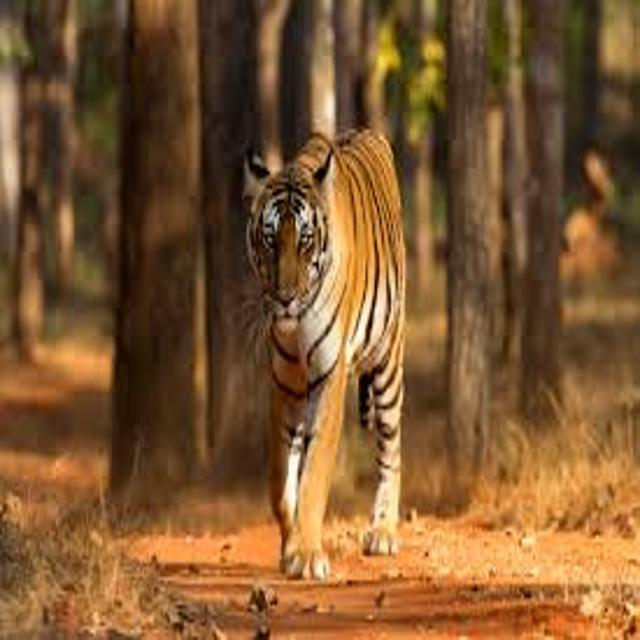Tiger: (214, 104, 426, 586)
